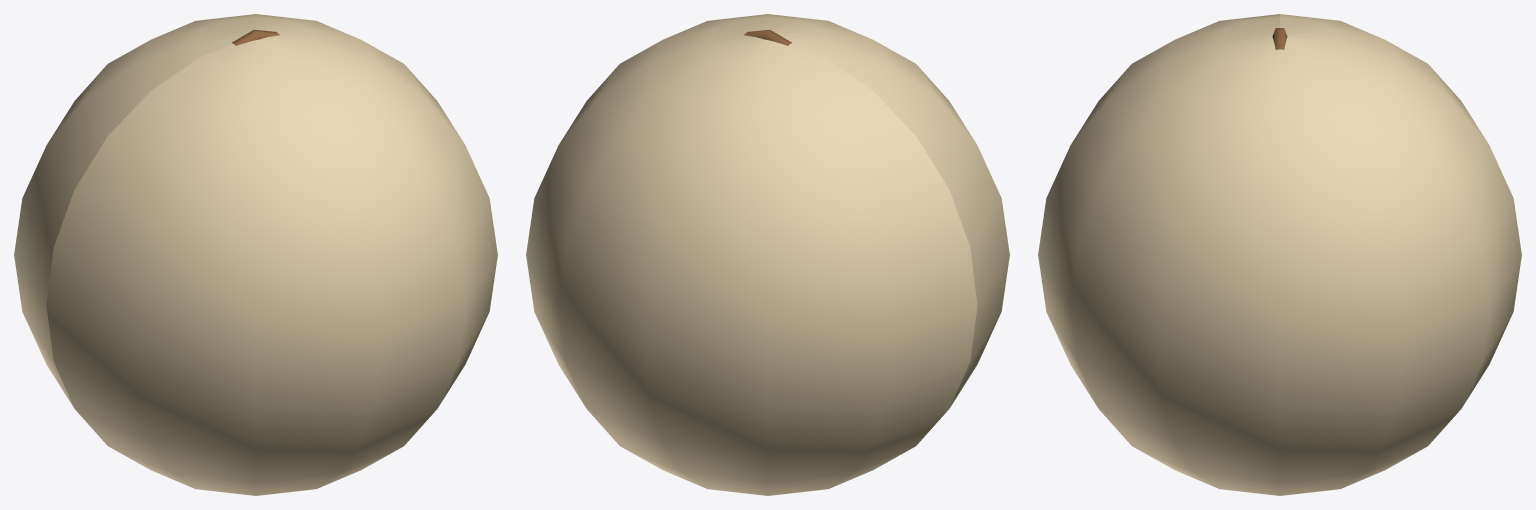
Rendered from grain-heap-6-light.glb.
The picture shows the model from 3 angles, left to right: view 1: azimuth 30°, elevation 25°; view 2: azimuth 150°, elevation 25°; view 3: azimuth 270°, elevation 25°; orthographic projection.
Parts seen in each view (by area): view 1: cream; view 2: cream; view 3: cream.
Boxes of the visible parts, box(x1,y1,x2,y2) form: cream: box(14, 14, 497, 495); cream: box(526, 14, 1009, 495); cream: box(1038, 14, 1521, 495).
Bounding box in the file's own units: 0.2 × 0.202 × 0.2.
